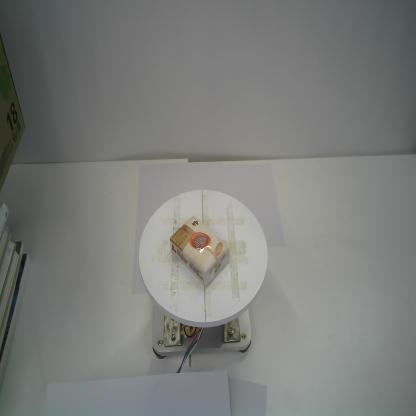Tissue: (170, 215, 230, 287)
